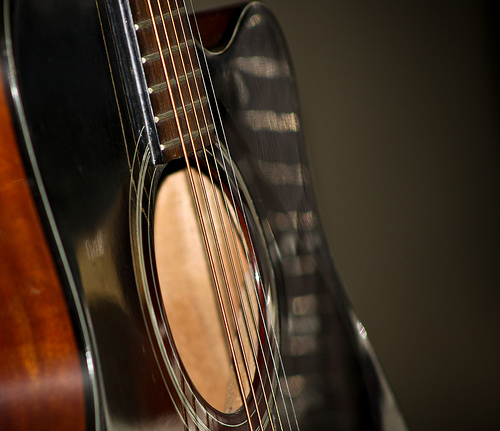guitar: (2, 1, 403, 431)
